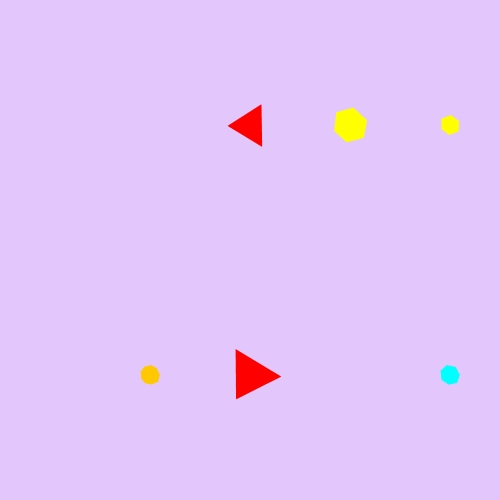heptagon: (436, 361, 465, 389)
hexagon: (328, 106, 373, 144), (435, 112, 465, 138)
nonagon: (136, 361, 165, 389)
triangle: (224, 348, 276, 403), (228, 102, 272, 148)
